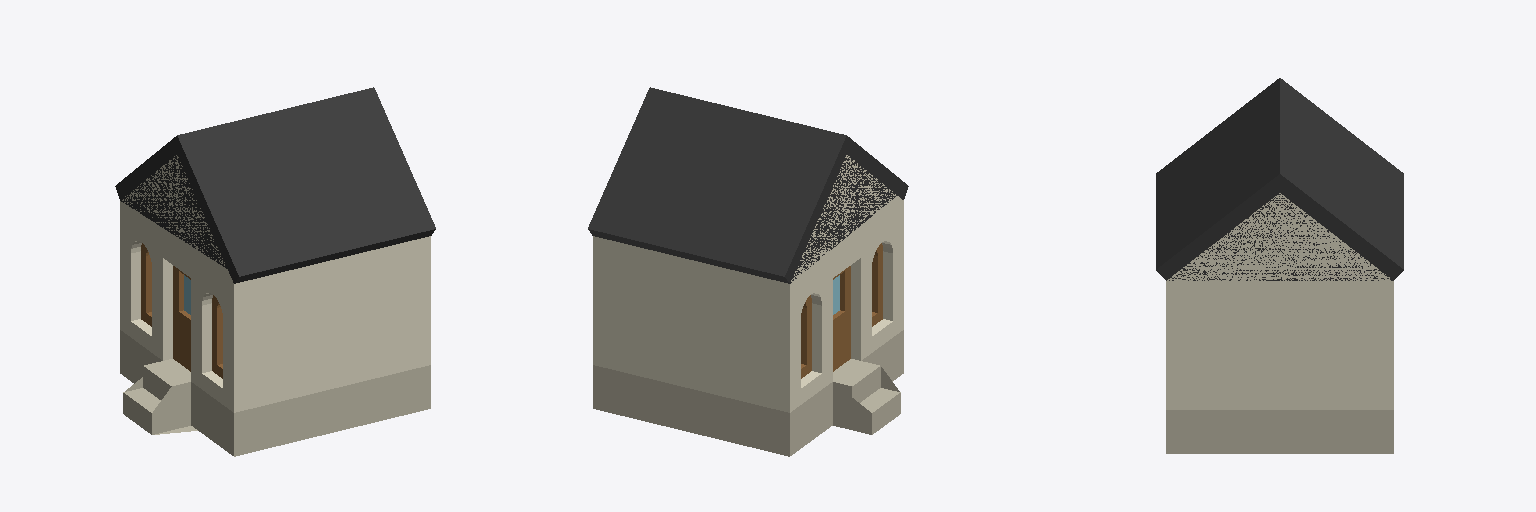
Rendered from SmallHouse2.obj.
3 renders of one model, left to right at view 1: azimuth 30°, elevation 25°; view 2: azimuth 150°, elevation 25°; view 3: azimuth 270°, elevation 25°, orthographic.
Parts seen in each view (by area): view 1: Mesh1_Group1_Model.438_Mesh1_Group1_Model.444; view 2: Mesh1_Group1_Model.438_Mesh1_Group1_Model.444; view 3: Mesh1_Group1_Model.438_Mesh1_Group1_Model.444.
Boxes of the visible parts, box(x1,y1,x2,y2) form: Mesh1_Group1_Model.438_Mesh1_Group1_Model.444: box(115, 87, 435, 456); Mesh1_Group1_Model.438_Mesh1_Group1_Model.444: box(588, 87, 908, 456); Mesh1_Group1_Model.438_Mesh1_Group1_Model.444: box(1156, 78, 1403, 453).
Size of the model in its own units: 2.26 by 2.55 by 2.05.